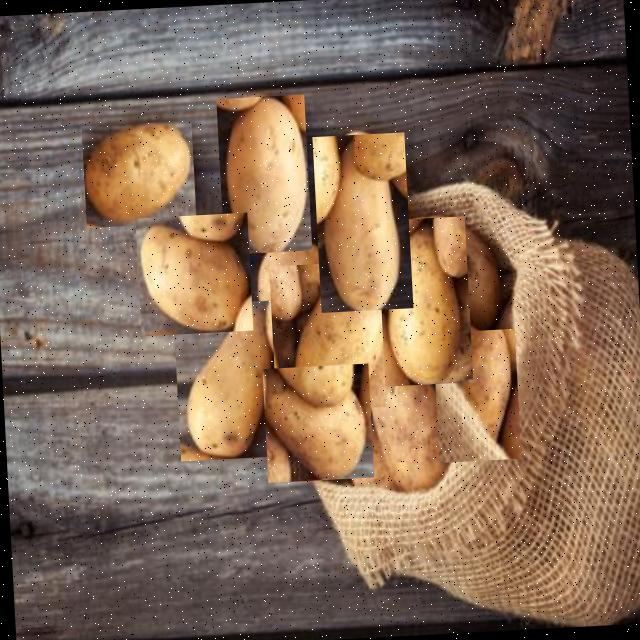Potato: (356, 350, 493, 539), (270, 260, 398, 412), (312, 132, 413, 313), (173, 300, 285, 462), (376, 216, 474, 386), (216, 94, 312, 254), (136, 212, 254, 336), (262, 363, 374, 482), (82, 120, 196, 228), (432, 329, 522, 463)
